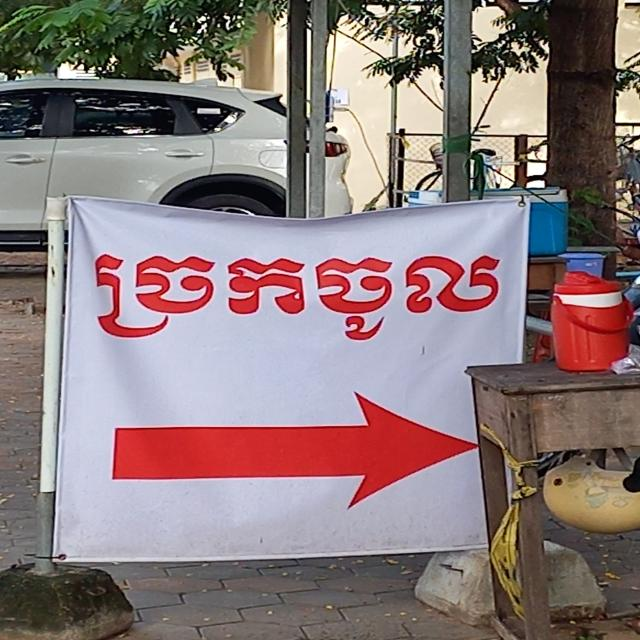Yolov11_80vkh: (81, 233, 517, 351)
